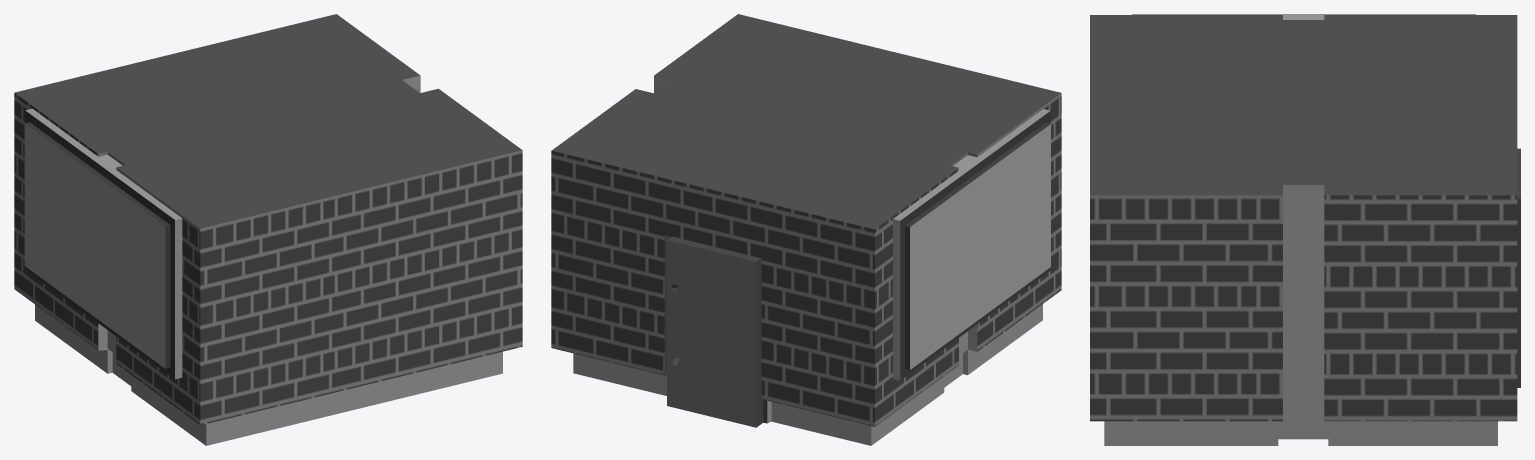
The model's file is DeliberationRoomModel.fbx.
The picture shows the model from 3 angles, left to right: view 1: azimuth 30°, elevation 25°; view 2: azimuth 150°, elevation 25°; view 3: azimuth 270°, elevation 25°; orthographic projection. The views are drawn at different scales.
Parts seen in each view (by area): view 1: DeliberationRoomModel; view 2: DeliberationRoomModel; view 3: DeliberationRoomModel.
Boxes of the visible parts, bbox=[...] form: DeliberationRoomModel: bbox=[14, 14, 522, 445]; DeliberationRoomModel: bbox=[551, 14, 1061, 445]; DeliberationRoomModel: bbox=[1090, 14, 1520, 445].
Size of the model in its own units: 466 by 299 by 453.
